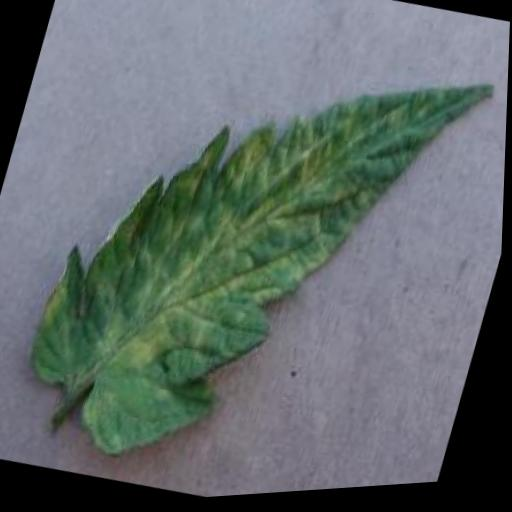Leaf Mold: (13, 0, 498, 511)
